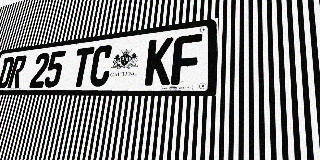2: (29, 52, 51, 88)
5: (43, 50, 66, 88)
C: (88, 44, 114, 87)
D: (0, 56, 15, 88)
F: (171, 34, 202, 85)
K: (144, 37, 174, 86)
R: (7, 55, 27, 88)
T: (70, 47, 95, 87)
